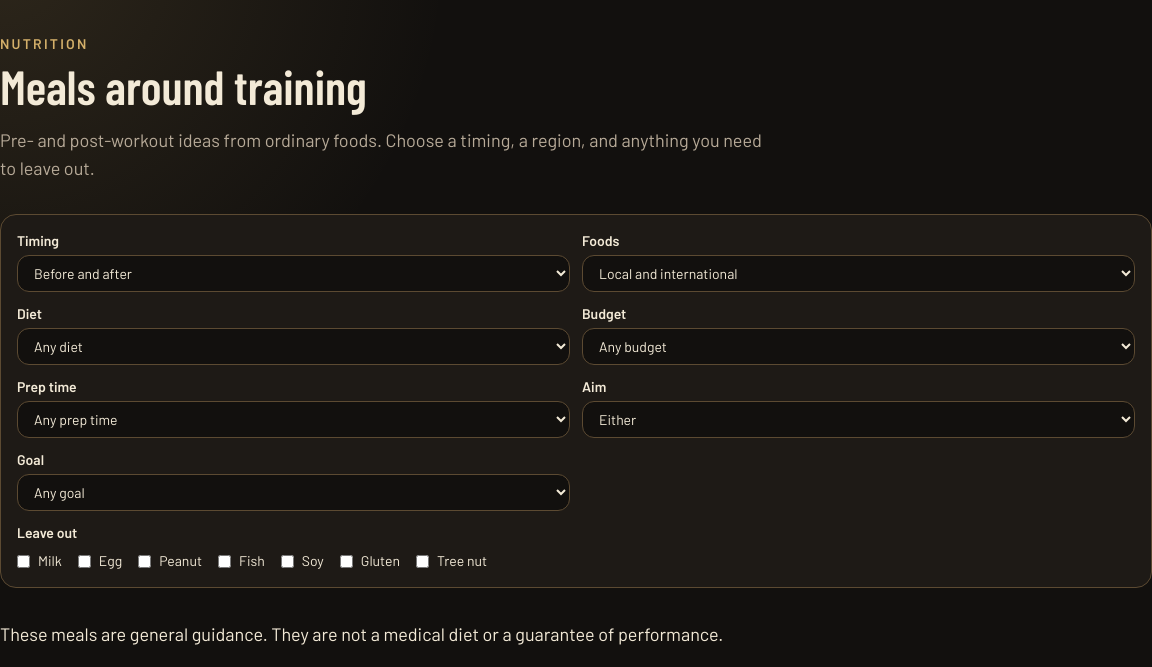
NutritionPage › sends a cut intent and keeps the guidance sentence
Select "Cut" in the dropdown labelled "Aim": coordinates (858, 420) [582,401,1135,438]
(page scrolled)
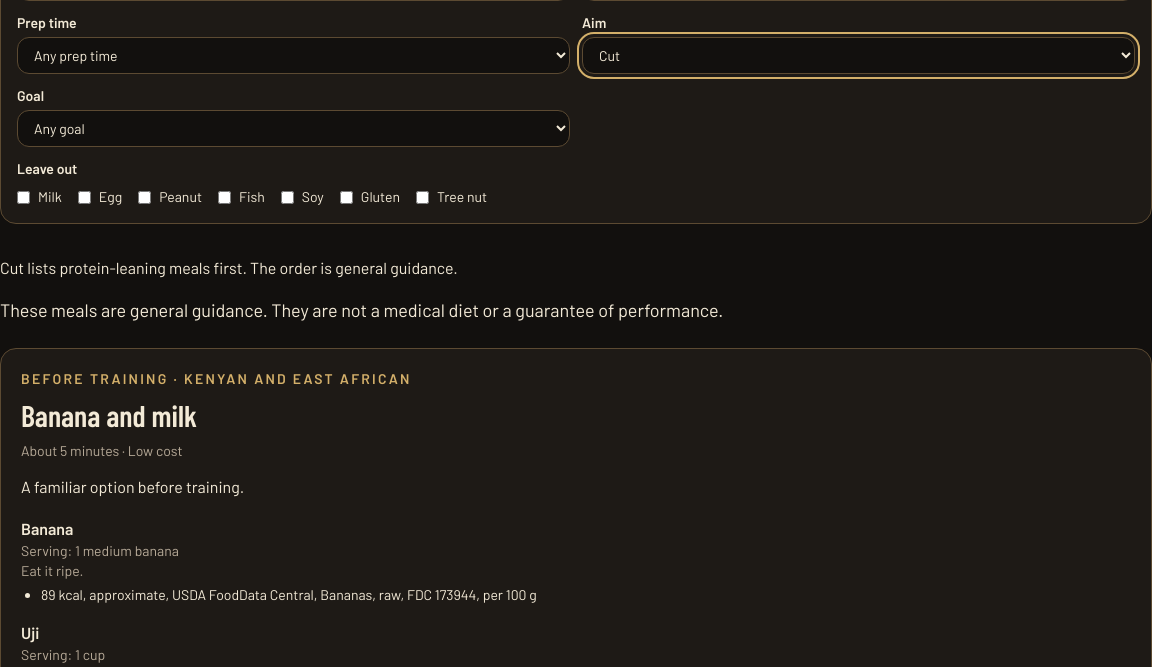
Expected: the text "These meals are general guidance. They are not a medical diet or a guarantee of performance." is shown, [0,299,723,321]
Expected: the text "Cut lists protein-leaning meals first" is shown, [0,258,458,277]
